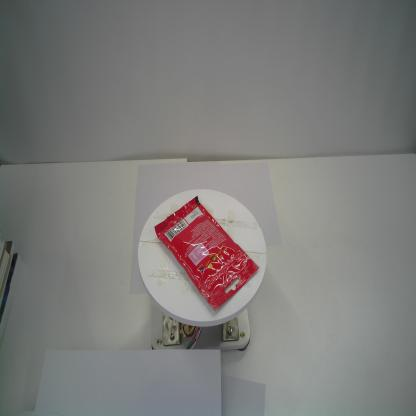Candy: (154, 195, 259, 312)
